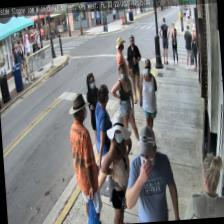person: (120, 124, 179, 222), (65, 91, 102, 224), (96, 115, 136, 224), (86, 83, 117, 200), (108, 61, 142, 153), (179, 151, 224, 218), (135, 58, 160, 142), (84, 71, 106, 164), (113, 35, 130, 122), (124, 34, 144, 104), (169, 22, 178, 64)
